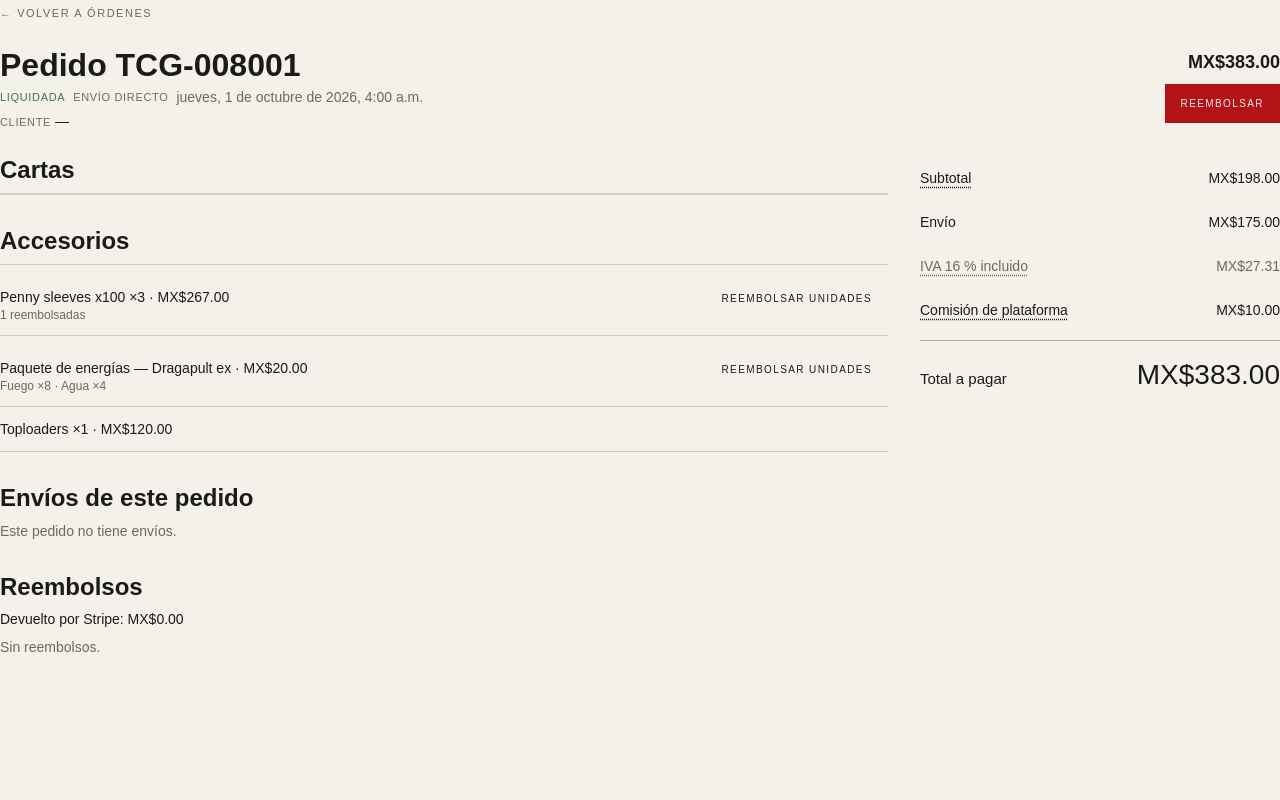
Test: AC-F19 · «Reembolsar unidades» con el importe del servidor › paquete: sin stepper (siempre 1); 409 BUNDLE_REFUND_REQUIRES_DECK con su texto
Click the button "Reembolsar unidades" in the row of "Fuego ×8 · Agua ×4". click: [797, 370]
box: top-left (706, 348), bottom-right (888, 392)
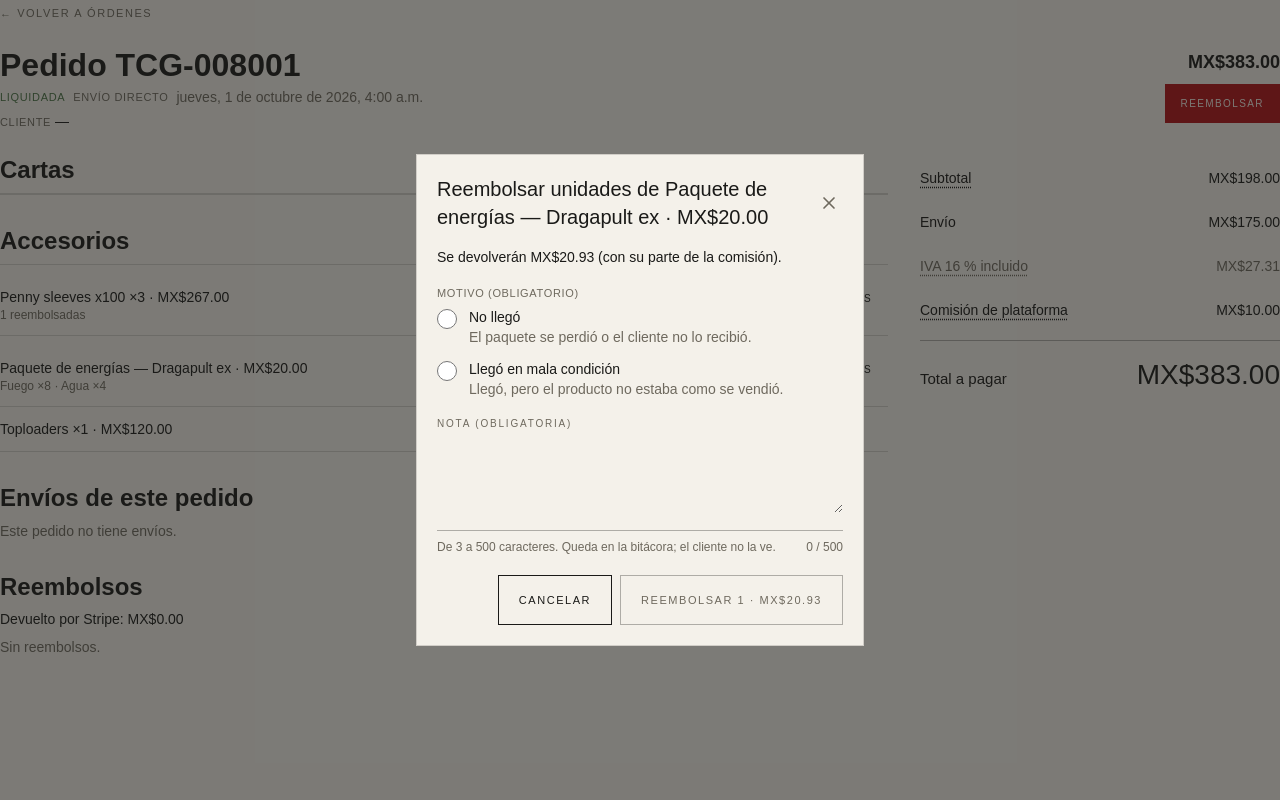
Click the radio button labelled "Llegó en mala condición". click: [447, 371]
box: top-left (437, 361), bottom-right (457, 381)
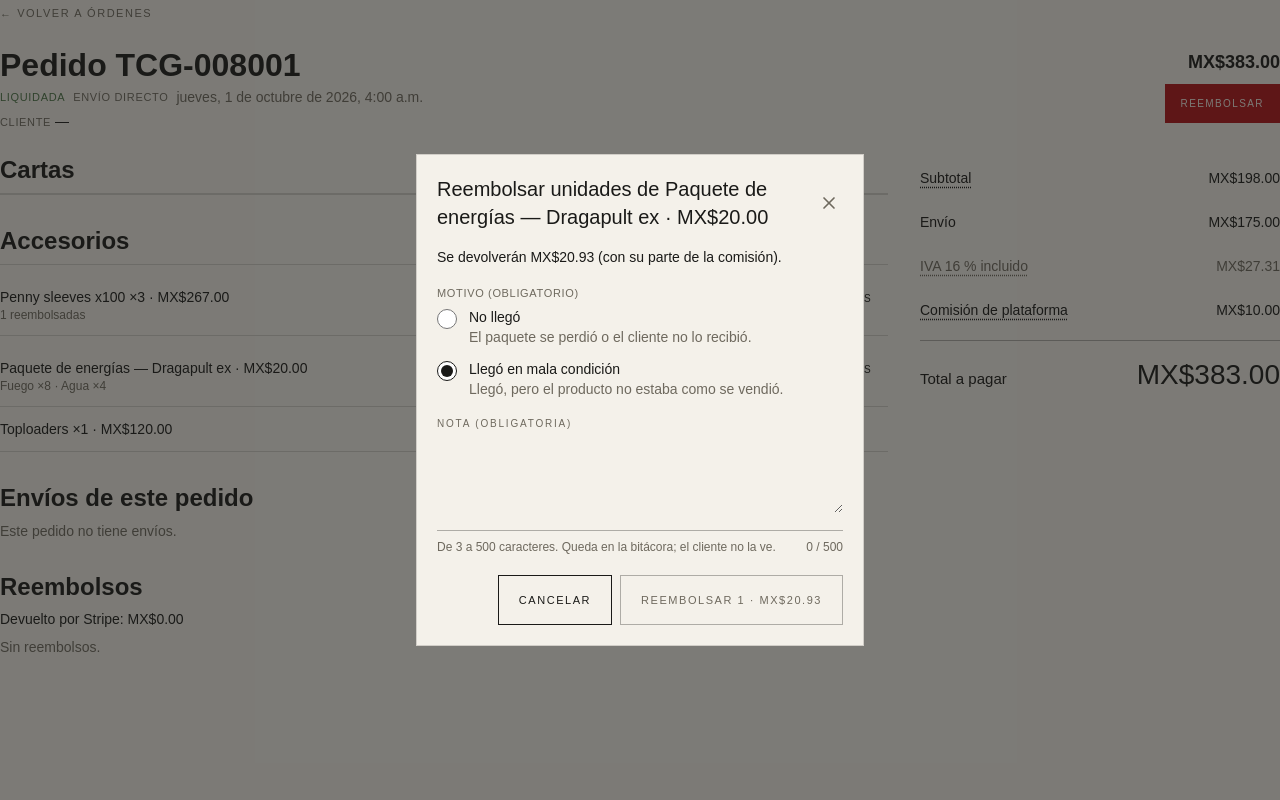
Type "No llegó el paquete según la paquetería" into the text box labelled "Nota (obligatoria)". click: [640, 477]
box: top-left (437, 441), bottom-right (843, 513)
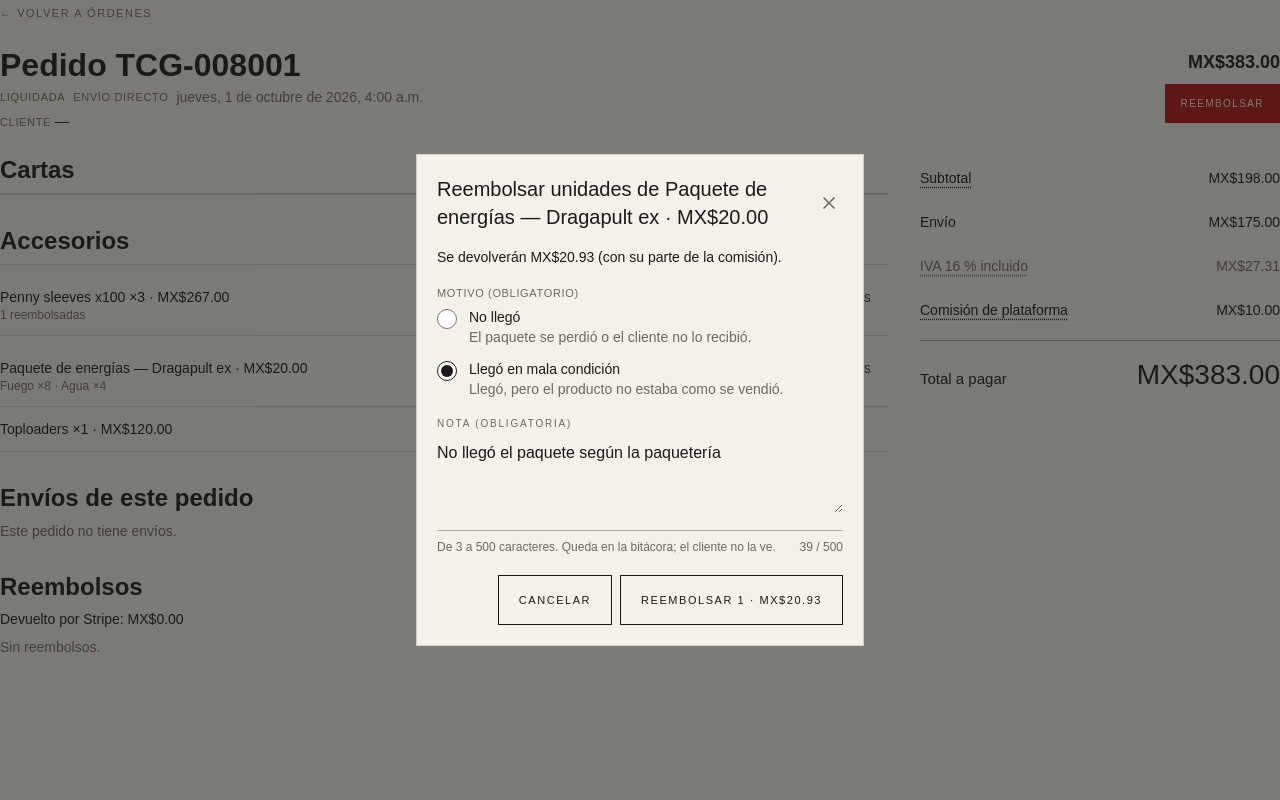
Click the button "Reembolsar 1 · MX$20.93". click: [732, 600]
box: top-left (620, 575), bottom-right (843, 625)
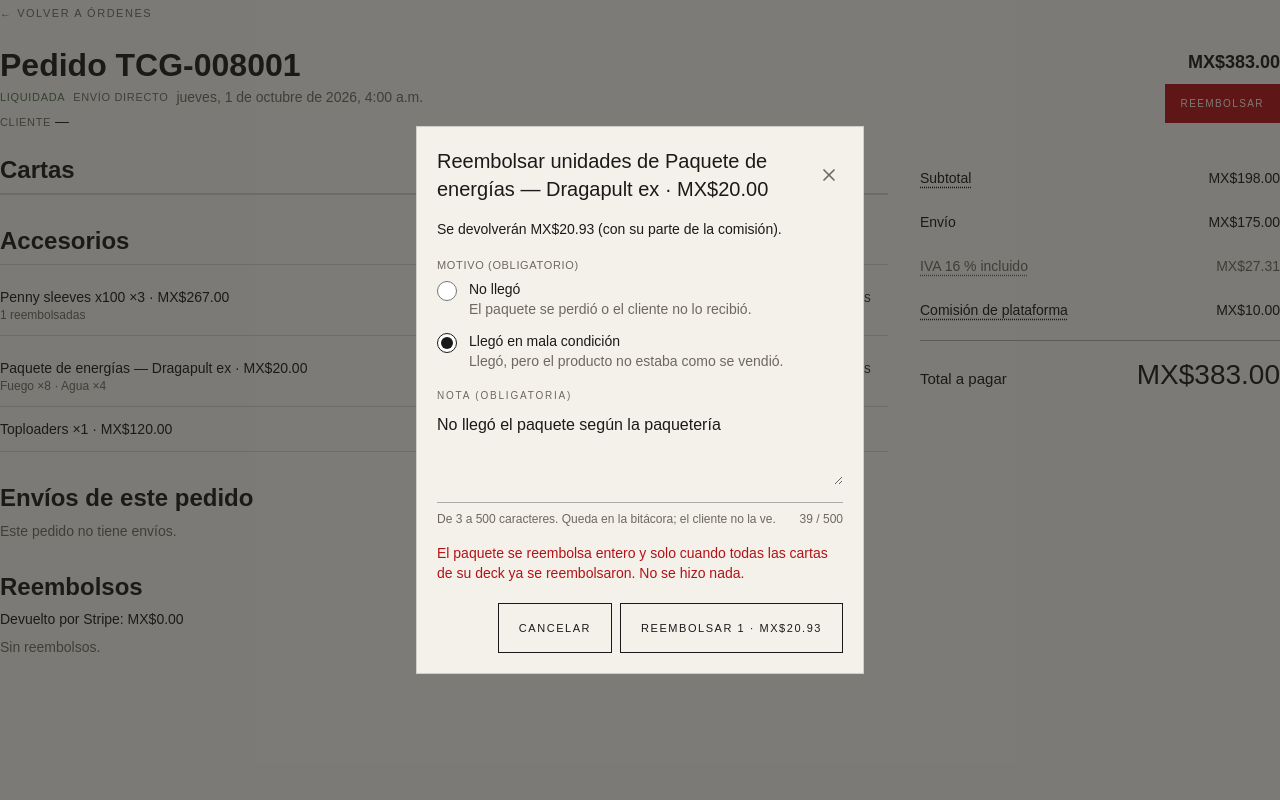
Expected: the text "El paquete se reembolsa entero y solo cuando todas las cartas de su deck ya se reembolsaron. No se hizo nada." is shown, top-left (437, 545), bottom-right (828, 581)
